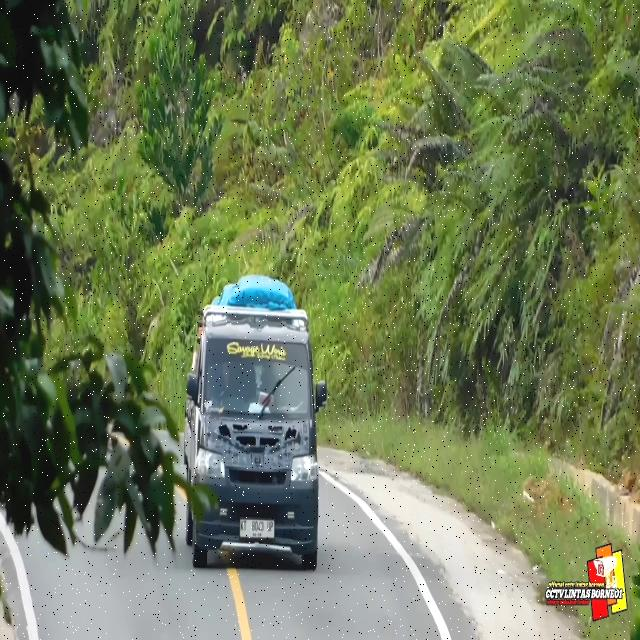Golongan IVB: (182, 303, 328, 572)
